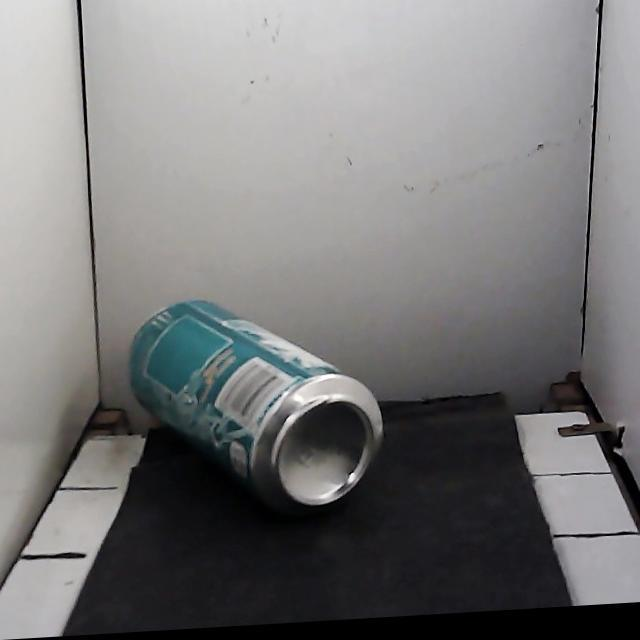metal: (130, 300, 383, 511)
